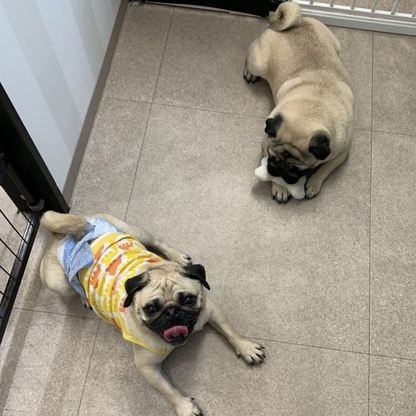Pug: (31, 203, 269, 416), (231, 1, 366, 207)
